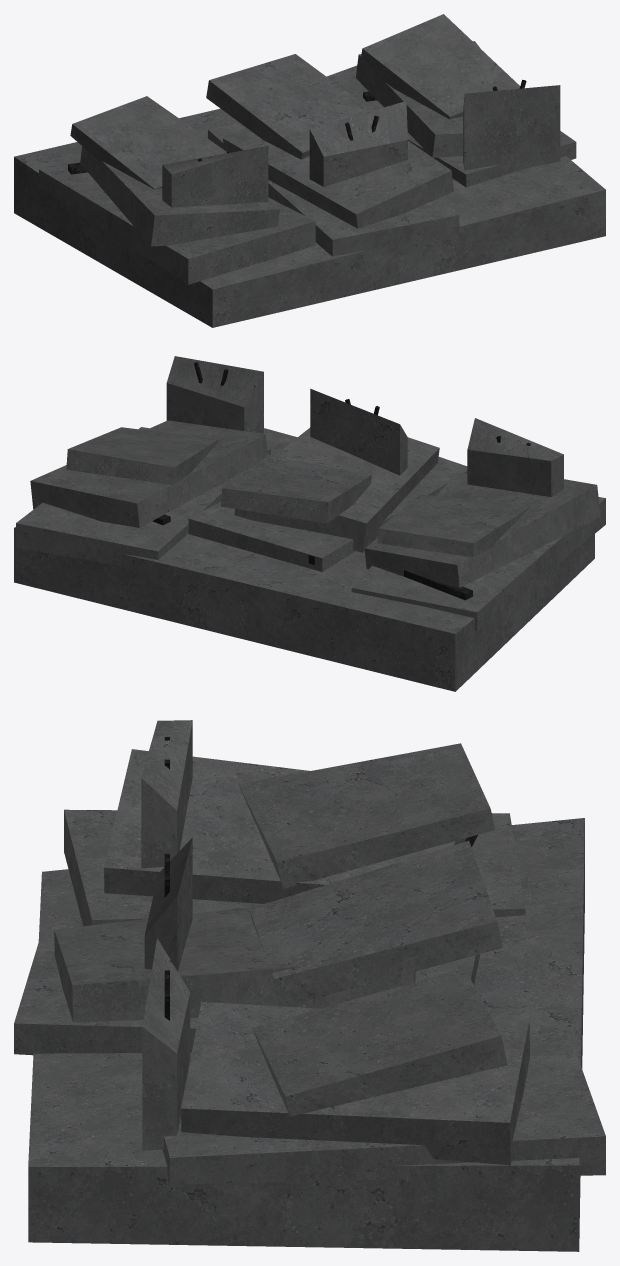
Rendered from city-collapse.glb.
3 renders of one model, top to bottom at view 1: azimuth 30°, elevation 25°; view 2: azimuth 150°, elevation 25°; view 3: azimuth 270°, elevation 25°, orthographic. The views are drawn at different scales.
Parts seen in each view (by area): view 1: city-collapse-concrete, city-collapse-steel; view 2: city-collapse-concrete, city-collapse-steel; view 3: city-collapse-concrete, city-collapse-steel.
Part boxes in pixels (x1,y1,x2,y2): city-collapse-concrete: (14,14,605,327); city-collapse-steel: (68,79,526,174); city-collapse-concrete: (14,356,605,691); city-collapse-steel: (152,362,530,600); city-collapse-concrete: (14,720,605,1251); city-collapse-steel: (164,737,477,1020).
Size of the model in its own units: 6.96 by 2.1 by 5.
2 materials, 2 textured.
